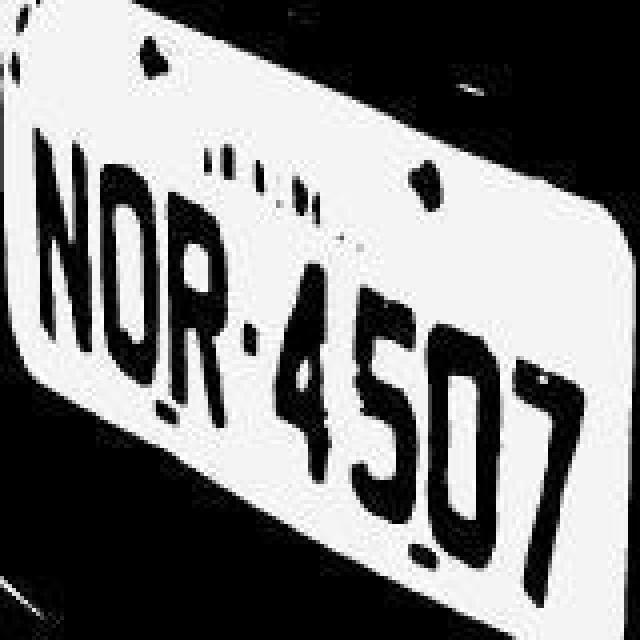4: (270, 246, 338, 506)
5: (344, 270, 424, 530)
7: (502, 340, 586, 620)
N: (26, 108, 102, 380)
O: (422, 276, 506, 572), (96, 152, 168, 392)
R: (160, 188, 240, 428)
